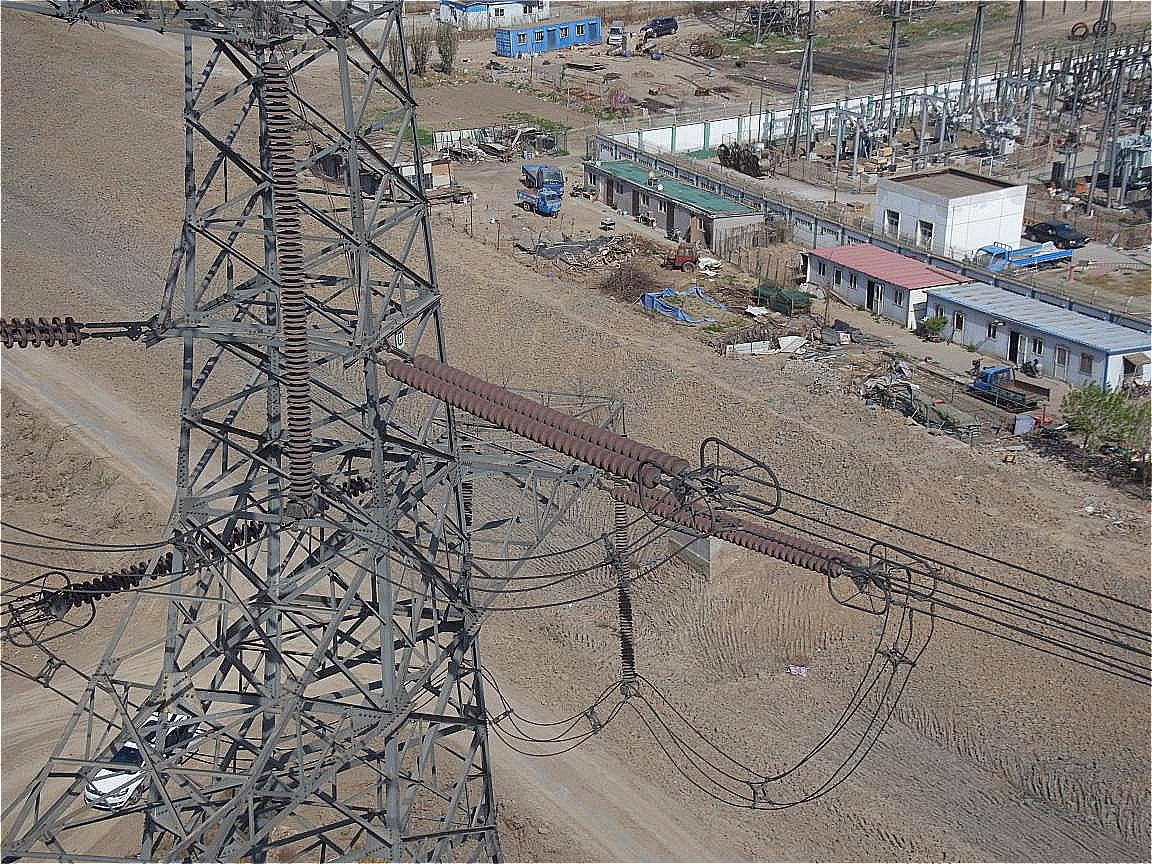insultor1: (384, 339, 707, 487), (260, 48, 336, 486), (611, 476, 880, 592)
